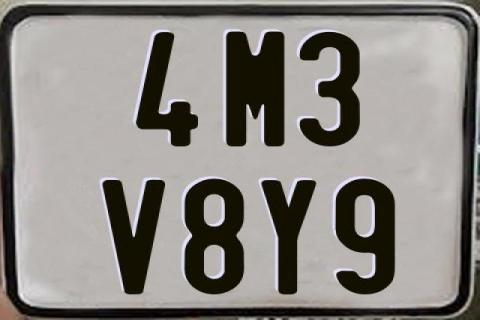0: (183, 177, 245, 297), (136, 31, 198, 149), (335, 177, 398, 293), (297, 31, 357, 148)
M: (226, 30, 285, 148)
V: (100, 180, 165, 294)
Y: (258, 180, 313, 294)
